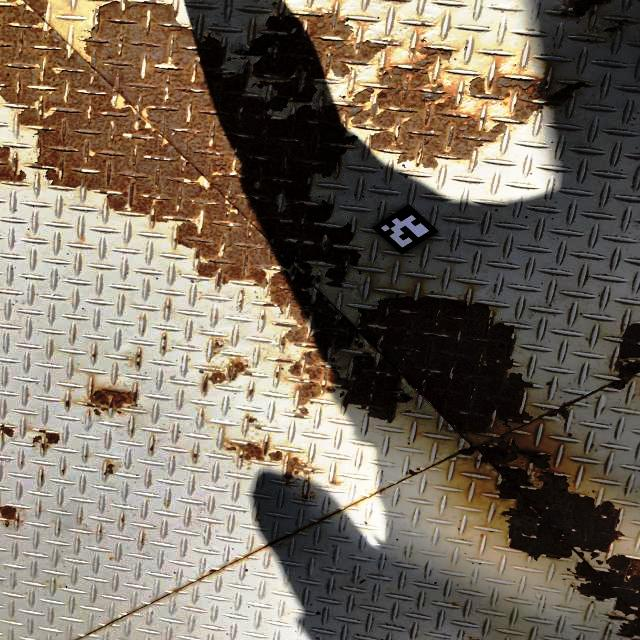Corrosion: (0, 0, 640, 638), (610, 323, 640, 389), (84, 386, 137, 416), (537, 399, 579, 428), (224, 441, 269, 463), (0, 145, 26, 183), (559, 0, 610, 18), (284, 457, 315, 480), (31, 430, 60, 452), (274, 358, 305, 377), (227, 361, 253, 383), (201, 372, 228, 393), (0, 506, 20, 528), (601, 19, 629, 33), (0, 424, 15, 438), (456, 447, 478, 456), (293, 406, 309, 418), (267, 451, 284, 462), (103, 463, 116, 476), (208, 566, 226, 574), (212, 340, 224, 349), (246, 415, 258, 423), (409, 469, 418, 476), (274, 371, 280, 379), (330, 479, 338, 485), (248, 389, 254, 396), (280, 336, 284, 346), (239, 300, 243, 309), (40, 473, 44, 482), (65, 400, 69, 408), (254, 426, 262, 430), (260, 314, 265, 320), (61, 468, 65, 475), (150, 444, 154, 451), (136, 361, 141, 366), (92, 353, 96, 358), (193, 453, 197, 458), (285, 482, 290, 486), (121, 517, 124, 523), (137, 354, 141, 358), (162, 345, 165, 350), (163, 335, 166, 340), (240, 290, 243, 294), (31, 445, 35, 447)
